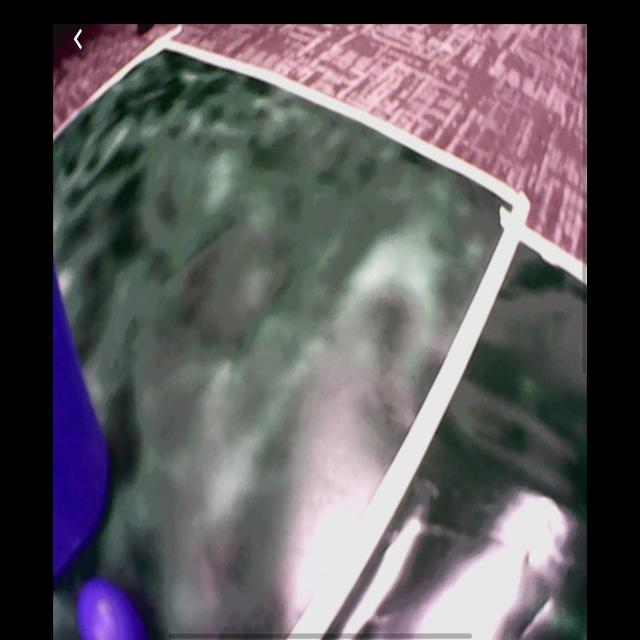ball: (77, 578, 143, 640)
